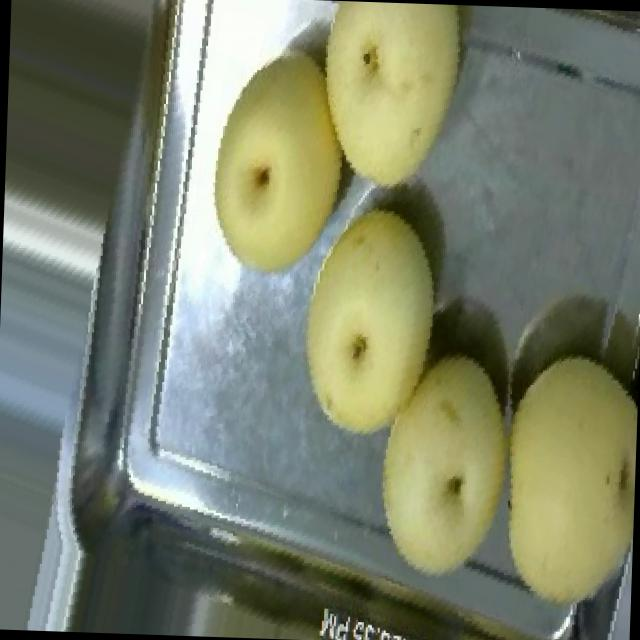Fruit: (459, 325, 640, 636), (342, 323, 526, 610), (280, 189, 470, 462), (192, 38, 368, 290), (302, 0, 495, 204)
